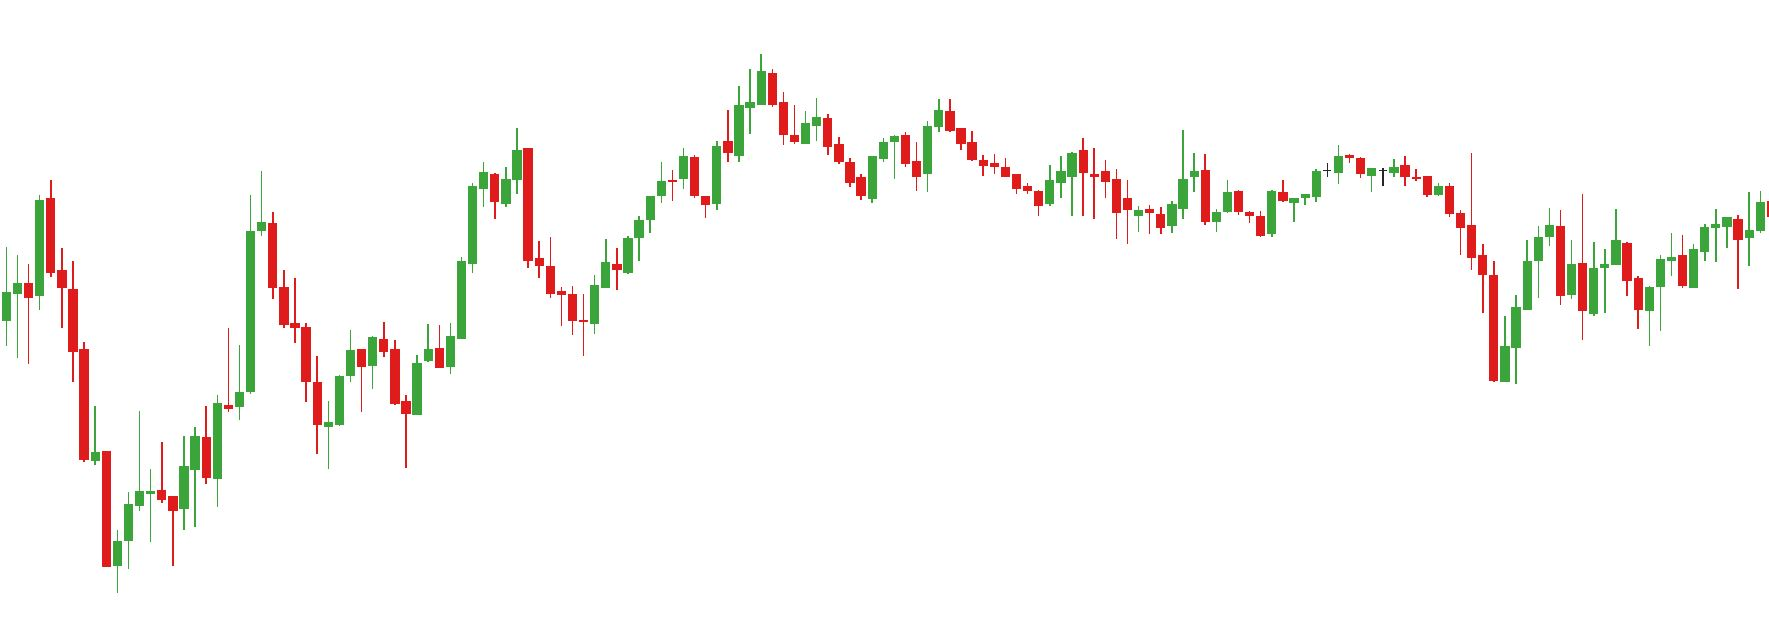sell: (47, 171, 269, 347)
